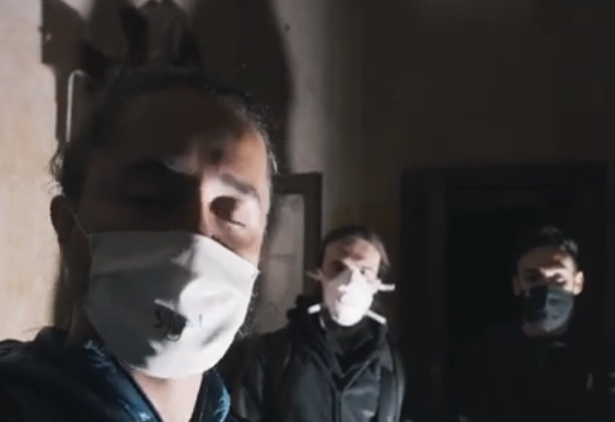with_mask: (67, 97, 266, 367), (509, 238, 581, 337), (310, 234, 386, 324)
